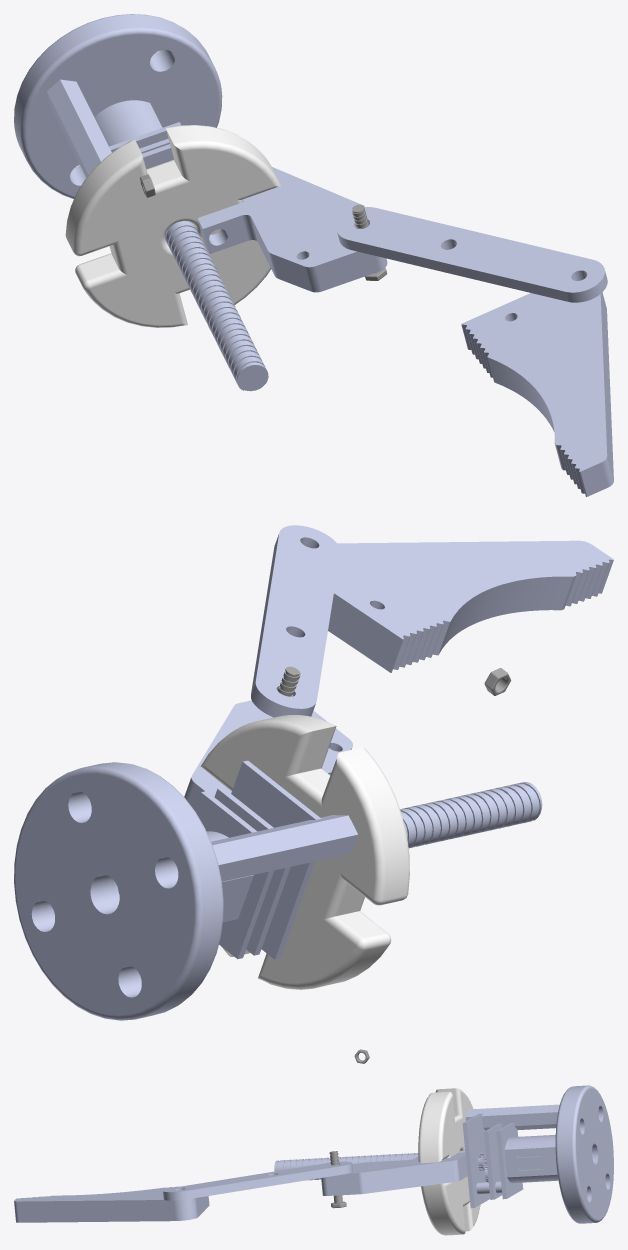
File: pince.dae
3 renders of one model, top to bottom at view 1: azimuth 30°, elevation 25°; view 2: azimuth 150°, elevation 25°; view 3: azimuth 270°, elevation 25°, orthographic. The views are drawn at different scales.
Parts seen in each view (by area): view 1: Part4_8, Part10_24, Part3_6, Part1_2, Part2_4, Part5_10, part_9_22, part_8_18; view 2: Part10_24, Part4_8, Part3_6, Part1_2, Part5_10, part_8_18, part_9_22, Part2_4; view 3: Part10_24, Part4_8, Part3_6, part_8_18, Part2_4, Part1_2, Part5_10, part_9_22, screw_26.
Boxes of the visible parts, x1,y1,x2,y2 form: Part4_8: [65, 125, 280, 327]; Part10_24: [14, 14, 222, 198]; Part3_6: [461, 292, 613, 496]; Part1_2: [336, 207, 607, 302]; Part2_4: [197, 167, 387, 292]; Part5_10: [142, 144, 268, 391]; part_9_22: [47, 79, 111, 177]; part_8_18: [94, 100, 181, 153]; Part10_24: [14, 762, 223, 1020]; Part4_8: [200, 715, 409, 989]; Part3_6: [328, 540, 613, 672]; Part1_2: [251, 525, 340, 717]; Part5_10: [231, 760, 542, 959]; part_8_18: [118, 787, 290, 959]; part_9_22: [211, 815, 358, 881]; Part2_4: [184, 700, 352, 809]; Part10_24: [555, 1085, 613, 1223]; Part4_8: [418, 1088, 480, 1235]; Part3_6: [14, 1186, 209, 1222]; part_8_18: [477, 1123, 558, 1199]; Part2_4: [321, 1152, 467, 1195]; Part1_2: [163, 1161, 352, 1200]; Part5_10: [274, 1113, 490, 1208]; part_9_22: [465, 1104, 559, 1130]; screw_26: [329, 1151, 346, 1208].
Bounding box in the file's own units: 57.35 × 139 × 38.54.
